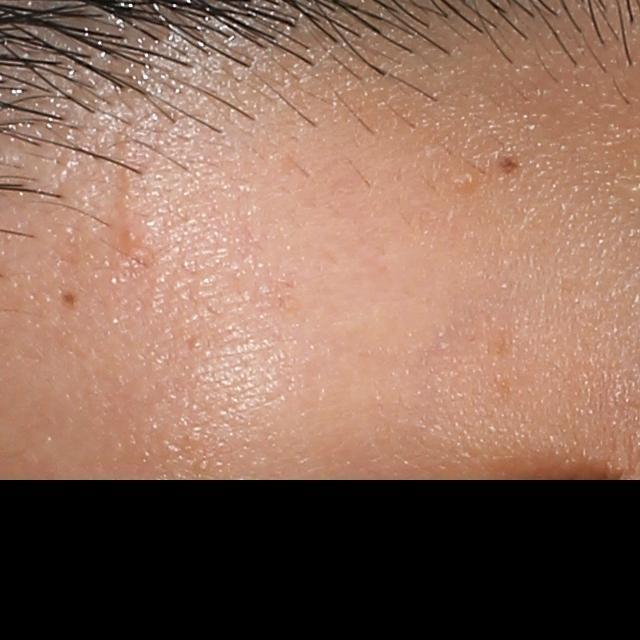comedo: (450, 170, 479, 196)
nevus: (493, 155, 518, 174), (60, 288, 79, 309)
